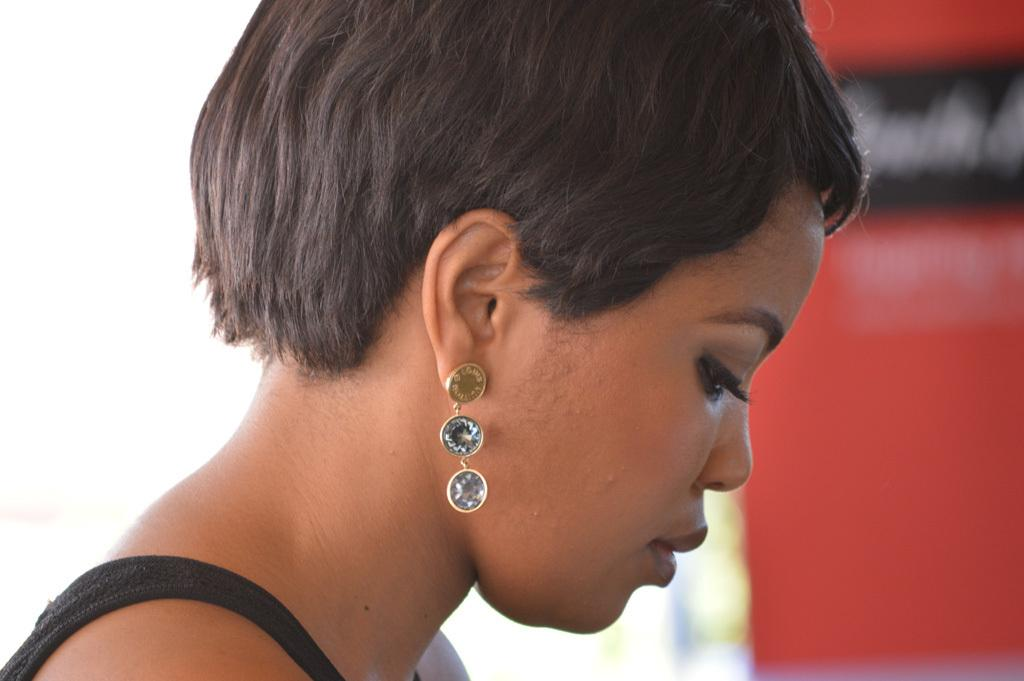earring: (434, 360, 489, 514)
